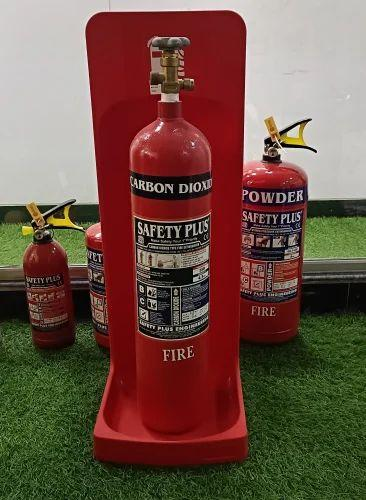floor-kept: (126, 35, 219, 433)
wall-mounted: (242, 115, 318, 345), (19, 197, 82, 355), (87, 219, 112, 352)
